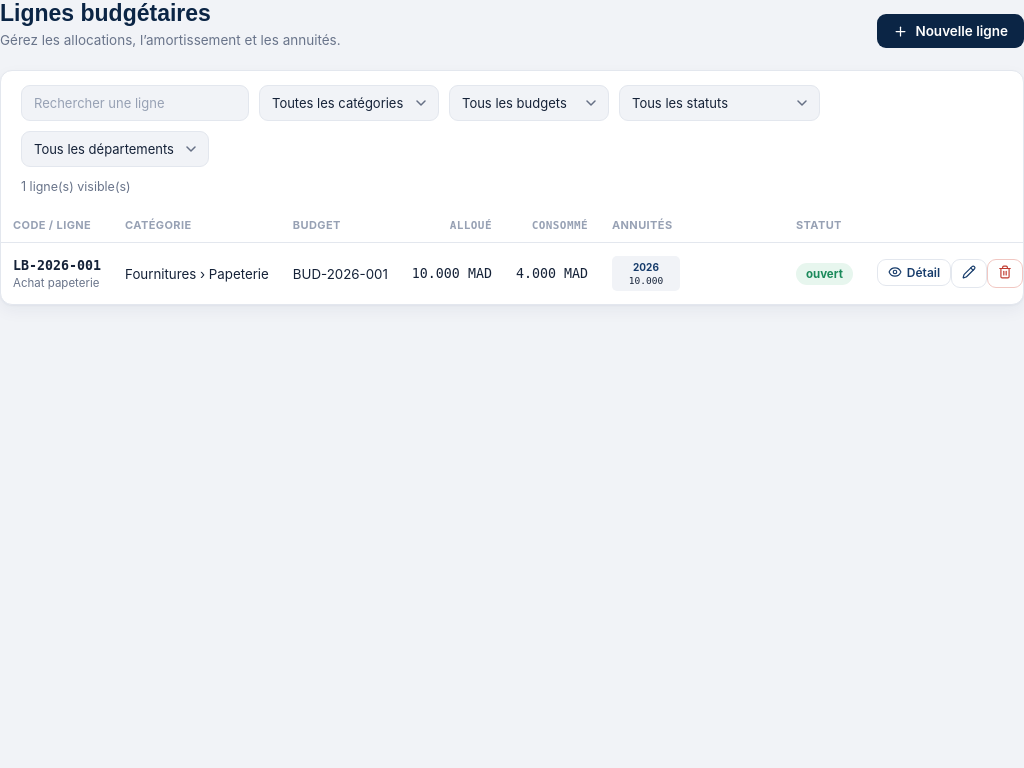
Scenario: LignesBudgetaires › met à jour les sous-catégories disponibles selon la catégorie choisie
Expected: the text "LB-2026-001" is shown, [13,258,101,273]
Click the button "Nouvelle ligne": (951, 31) [877,14,1023,48]
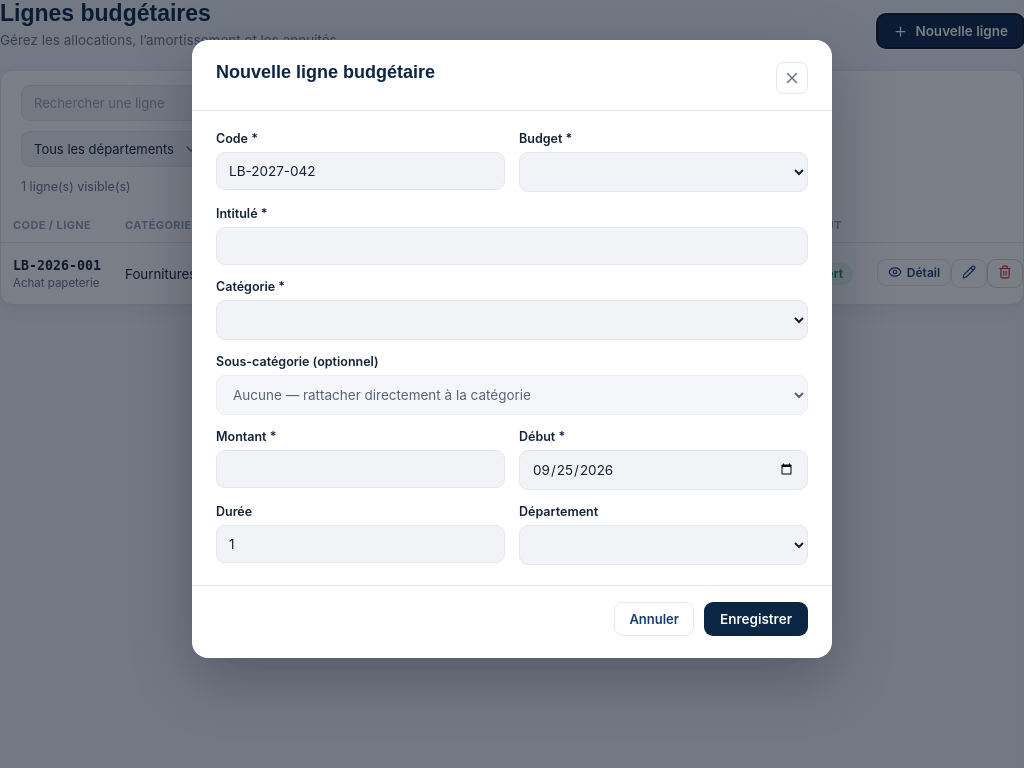
Now the dropdown below "Sous-catégorie (optionnel)" is disabled, box [216,375,808,415]
Select "Fournitures" in the dropdown below "Catégorie *": (512, 320) [216,300,808,340]
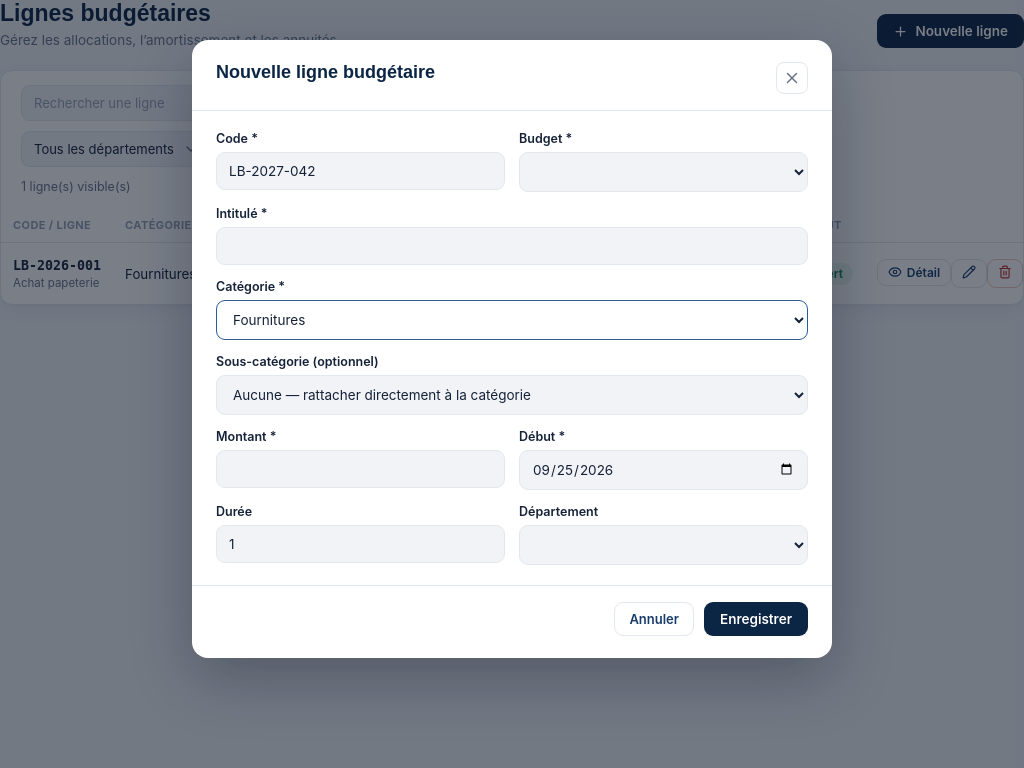
Now the dropdown below "Sous-catégorie (optionnel)" is enabled, box [216,375,808,415]
